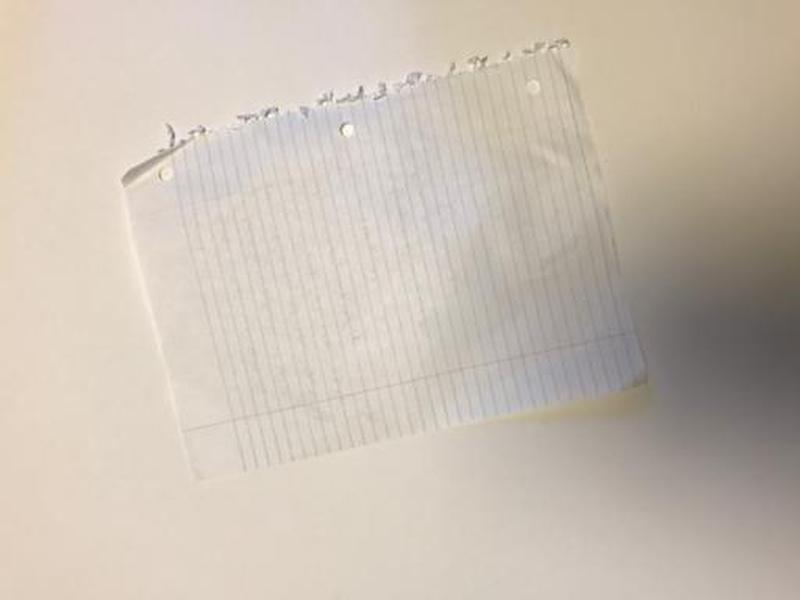paper: (119, 35, 663, 485)
